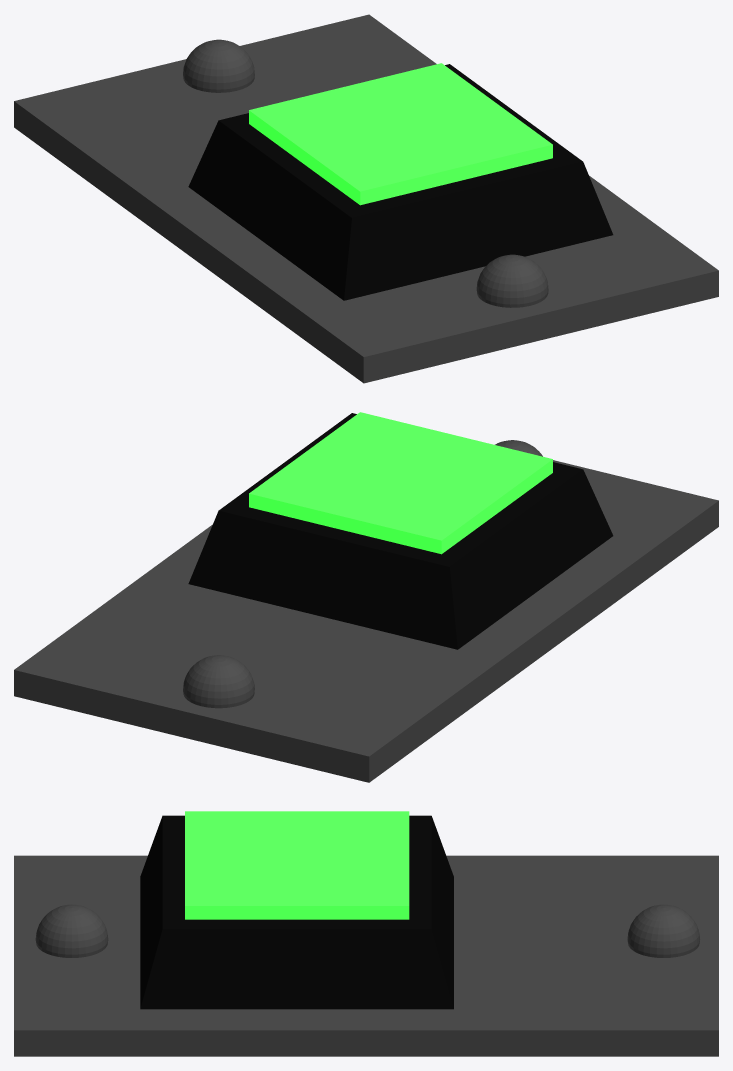
File: greenTextlessPushToExitButton.fbx
3 views of the same model, one above another, from view 1: azimuth 30°, elevation 25°; view 2: azimuth 150°, elevation 25°; view 3: azimuth 270°, elevation 25° (orthographic).
Visible parts, largest first — view 1: Cube.002, Cube.001, Cube, Sphere.001, Sphere; view 2: Cube.002, Cube.001, Cube, Sphere; view 3: Cube.002, Cube.001, Cube, Sphere.001, Sphere.
Boxes of the visible parts, x1=… form: Cube.002: x1=14, y1=14, x2=718, y2=383; Cube.001: x1=188, y1=64, x2=613, y2=300; Cube: x1=249, y1=63, x2=552, y2=205; Sphere.001: x1=476, y1=254, x2=548, y2=307; Sphere: x1=183, y1=39, x2=254, y2=92; Cube.002: x1=14, y1=460, x2=718, y2=782; Cube.001: x1=188, y1=413, x2=613, y2=649; Cube: x1=249, y1=412, x2=552, y2=554; Sphere: x1=183, y1=655, x2=254, y2=708; Cube.002: x1=14, y1=855, x2=718, y2=1056; Cube.001: x1=140, y1=815, x2=453, y2=1009; Cube: x1=185, y1=811, x2=409, y2=919; Sphere.001: x1=35, y1=904, x2=108, y2=957; Sphere: x1=627, y1=904, x2=699, y2=957.
Bounding box in the file's own units: 368 × 110 × 628.
